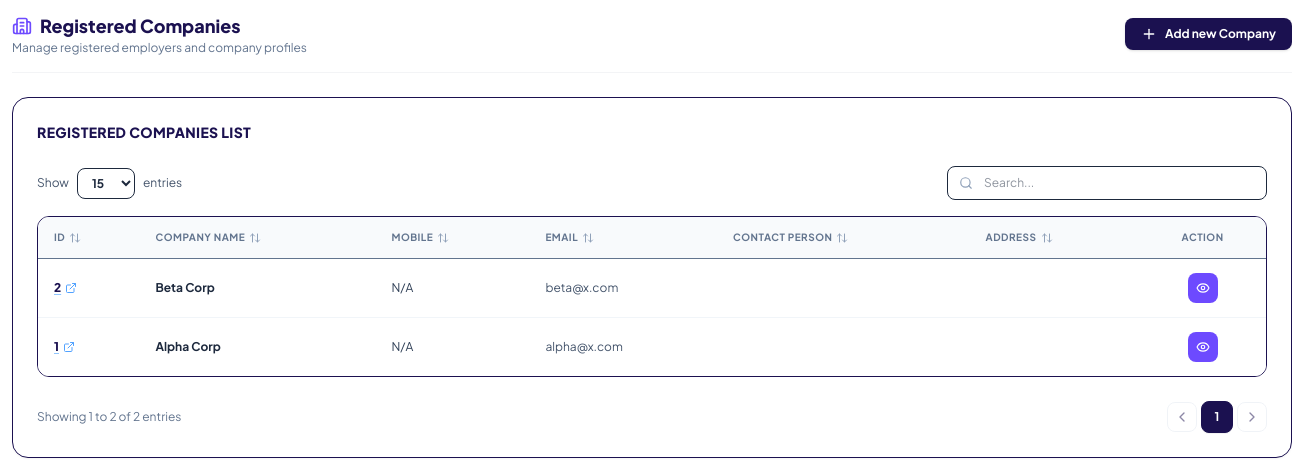
Scenario: AdminRegisteredCompanies › filters companies by search input
The width and height of the screenshot is (1304, 475).
Check: the text "Alpha Corp" is shown, box [140,318,376,376]
Check: the text "Beta Corp" is shown, box [140,259,376,318]
Type "Alpha" into the field with placeholder "Search..." at (1107, 183), box [947,166,1267,200]
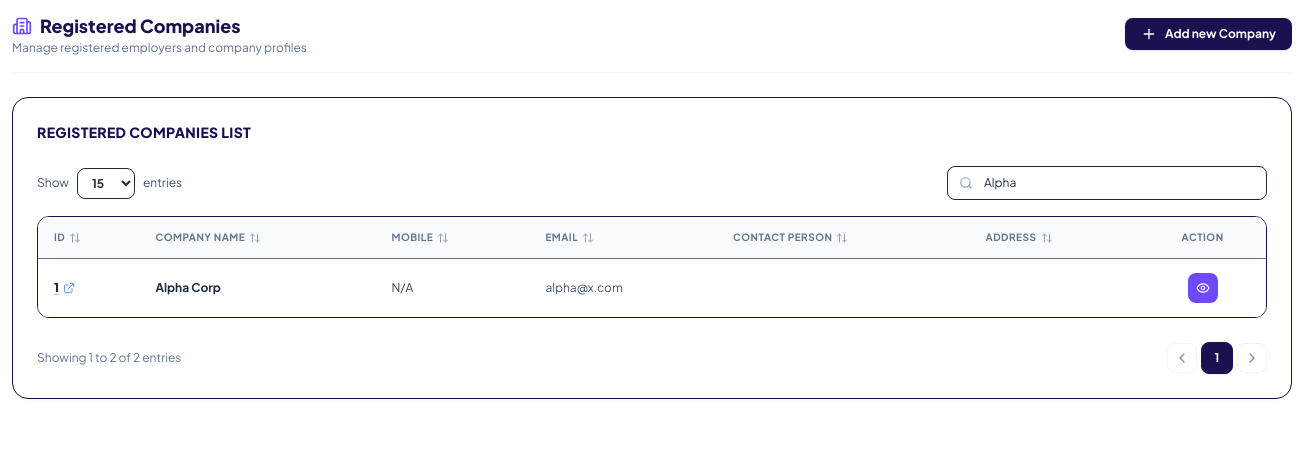
Check: the text "Alpha Corp" is shown, box [140,259,376,317]
Check: the text "Beta Corp" is gone
